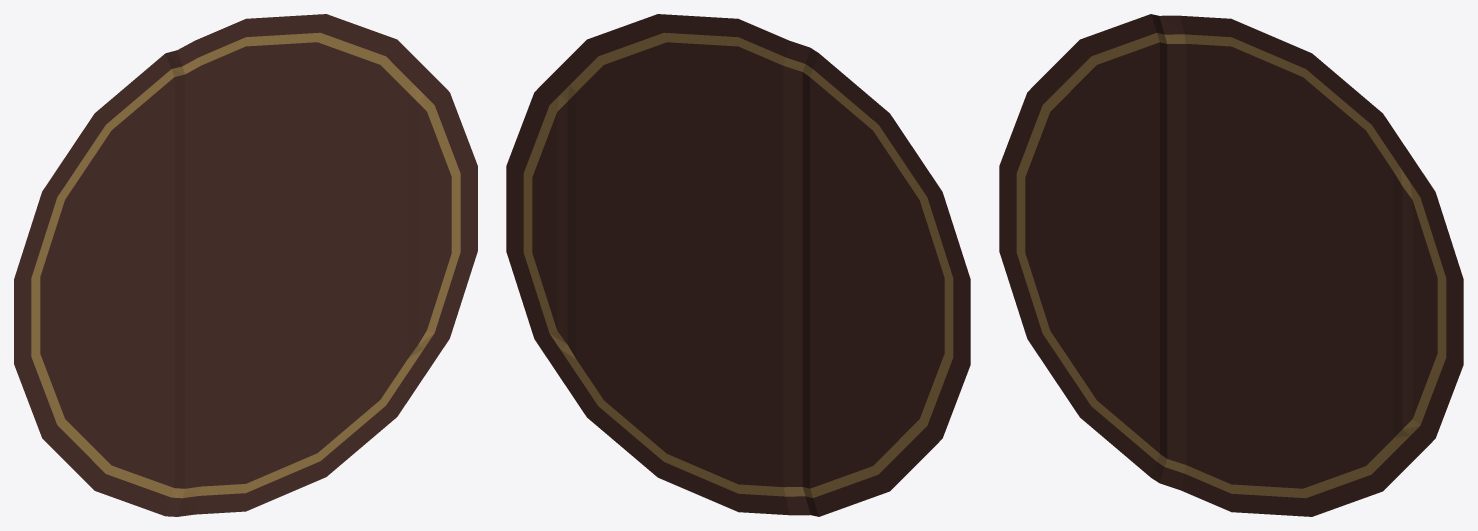
The model's file is rug-round.obj.
3 views of the same model, side by side, from view 1: azimuth 30°, elevation 25°; view 2: azimuth 150°, elevation 25°; view 3: azimuth 330°, elevation 25° (orthographic).
Visible parts, largest first — view 1: rug-round; view 2: rug-round; view 3: rug-round.
Part boxes in pixels (<box>): rug-round: <box>14,14,477,516</box>; rug-round: <box>506,14,970,516</box>; rug-round: <box>999,14,1463,516</box>.
Bounding box in the file's own units: 84 × 85.3 × 0.53.
